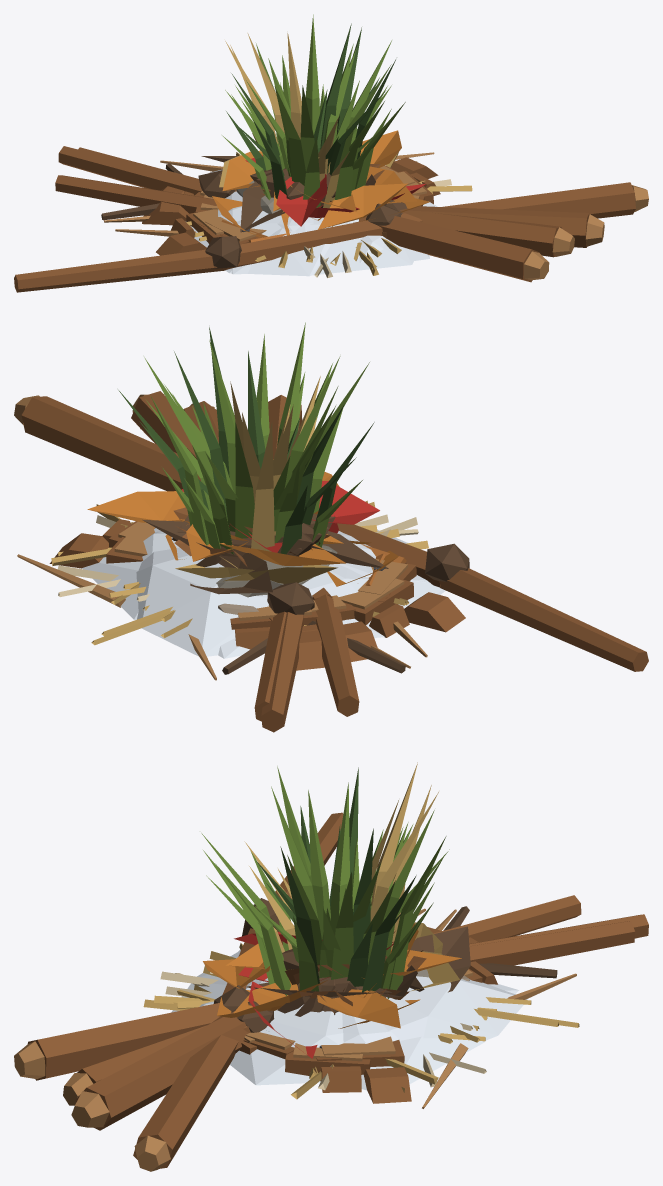
File: scatter-kit.low.glb
3 views of the same model, one above another, from view 1: azimuth 30°, elevation 25°; view 2: azimuth 150°, elevation 25°; view 3: azimuth 270°, elevation 25° (orthographic). The views are drawn at different scales.
Parts seen in each view (by area): view 1: stick_2, stick_3, stick_1, stick_4, tuft_3, tuft_1, tuft_2, tuft_4, leaf-pile_4, snow_1, leaf-pile_2, plank_4 (+9 smaller); view 2: stick_2, tuft_3, snow_3, tuft_4, stick_3, tuft_2, plank_3, leaf-pile_4, plank_4, tuft_1, stick_1, leaf-pile_3 (+13 smaller); view 3: stick_4, tuft_4, stick_3, stick_2, tuft_3, tuft_2, stick_1, tuft_1, snow_3, plank_3, snow_2, leaf-pile_4 (+13 smaller).
Part boxes in pixels (left/top/right/bottom): stick_2: left=14, top=182, right=648, bottom=292; stick_3: left=58, top=146, right=604, bottom=247; stick_1: left=55, top=163, right=574, bottom=257; stick_4: left=78, top=147, right=549, bottom=282; tuft_3: left=222, top=14, right=391, bottom=207; tuft_1: left=225, top=33, right=405, bottom=199; tuft_2: left=231, top=33, right=395, bottom=208; tuft_4: left=225, top=27, right=391, bottom=198; leaf-pile_4: left=201, top=150, right=416, bottom=226; snow_1: left=198, top=178, right=413, bottom=275; leaf-pile_2: left=212, top=155, right=407, bottom=238; plank_4: left=104, top=171, right=433, bottom=255; stick_2: left=14, top=395, right=648, bottom=671; tuft_3: left=151, top=351, right=362, bottom=560; snow_3: left=136, top=548, right=441, bottom=656; tuft_4: left=118, top=322, right=374, bottom=538; stick_3: left=131, top=391, right=405, bottom=732; tuft_2: left=145, top=327, right=356, bottom=546; plank_3: left=17, top=519, right=416, bottom=607; leaf-pile_4: left=165, top=481, right=379, bottom=594; plank_4: left=108, top=521, right=465, bottom=668; tuft_1: left=139, top=334, right=369, bottom=554; stick_1: left=183, top=401, right=359, bottom=716; leaf-pile_3: left=87, top=491, right=343, bottom=568; stick_4: left=14, top=921, right=635, bottom=1080; tuft_4: left=201, top=762, right=449, bottom=992; stick_3: left=71, top=906, right=648, bottom=1130; stick_2: left=133, top=812, right=343, bottom=1171; tuft_3: left=206, top=767, right=446, bottom=998; tuft_2: left=253, top=782, right=438, bottom=983; stick_1: left=63, top=895, right=581, bottom=1105; tuft_1: left=203, top=766, right=443, bottom=996; snow_3: left=238, top=949, right=527, bottom=1040; plank_3: left=316, top=1036, right=468, bottom=1108; snow_2: left=197, top=952, right=343, bottom=1085; leaf-pile_4: left=233, top=923, right=470, bottom=1028.
Bounding box in the file's own units: 0.3371 × 0.1083 × 0.2593.
